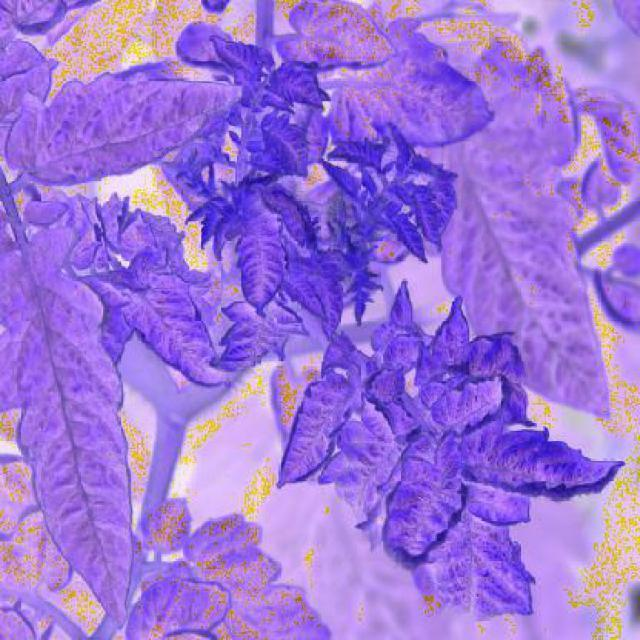Tomato healthy leaf: (0, 212, 163, 616), (2, 52, 276, 186), (303, 58, 500, 154), (112, 251, 238, 400), (456, 416, 638, 510), (368, 448, 472, 588), (270, 354, 364, 500), (440, 500, 552, 617), (408, 366, 530, 440), (224, 210, 296, 312), (286, 242, 363, 321), (378, 210, 436, 262), (408, 185, 448, 238)
